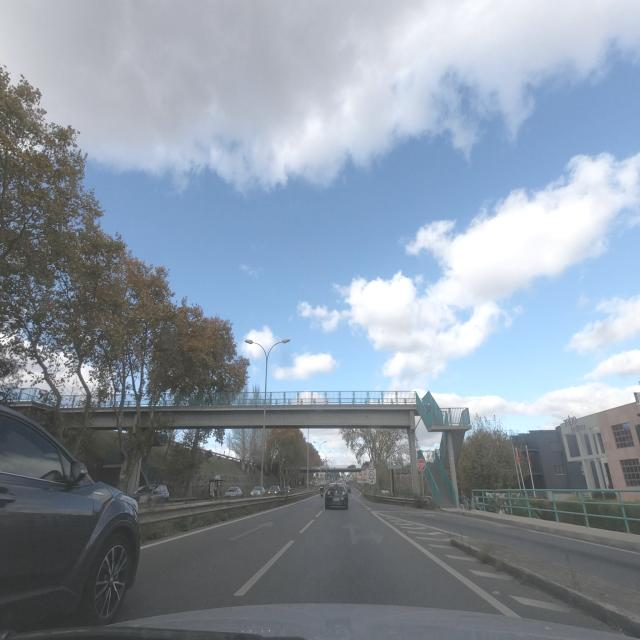car: (0, 395, 142, 633), (132, 484, 169, 502), (324, 484, 348, 509), (225, 485, 242, 499), (250, 485, 266, 497), (267, 485, 280, 495)
